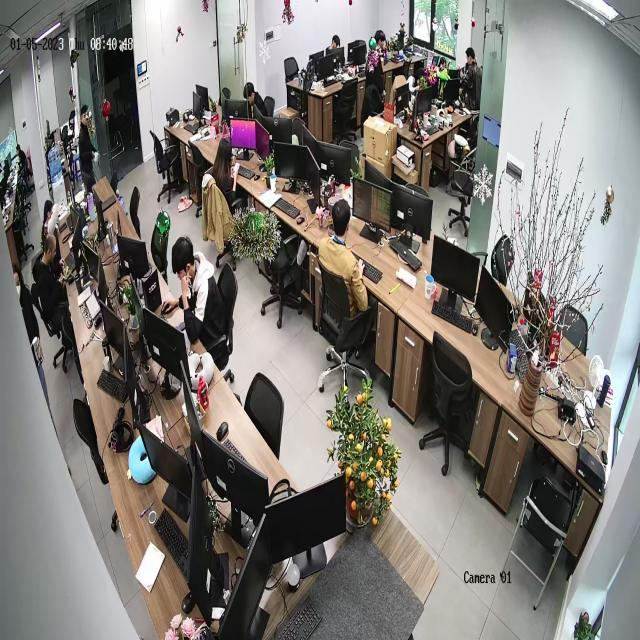person: (160, 236, 233, 374), (317, 200, 370, 323), (201, 138, 243, 276), (32, 230, 73, 328), (363, 27, 388, 108), (78, 108, 97, 201), (243, 81, 273, 129), (459, 48, 482, 110), (37, 194, 61, 244)
